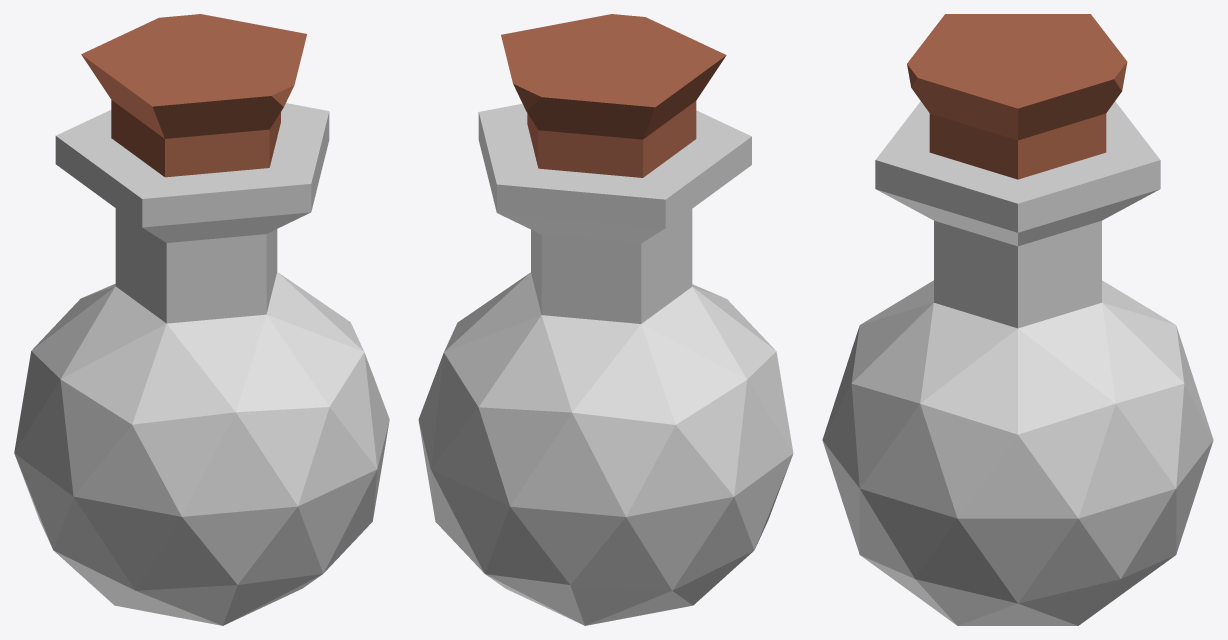
File: Potion-empty.fbx
3 views of the same model, side by side, from view 1: azimuth 30°, elevation 25°; view 2: azimuth 150°, elevation 25°; view 3: azimuth 270°, elevation 25° (orthographic). The views are drawn at different scales.
Parts seen in each view (by area): view 1: Icosphere, Icosphere.003; view 2: Icosphere, Icosphere.003; view 3: Icosphere, Icosphere.003.
Part boxes in pixels (x1=…): Icosphere: x1=14, y1=103, x2=389, y2=625; Icosphere.003: x1=81, y1=14, x2=306, y2=177; Icosphere: x1=418, y1=103, x2=793, y2=625; Icosphere.003: x1=501, y1=14, x2=726, y2=177; Icosphere: x1=822, y1=101, x2=1213, y2=625; Icosphere.003: x1=907, y1=14, x2=1127, y2=179.
Bounding box in the file's own units: 190 × 316 × 200.
